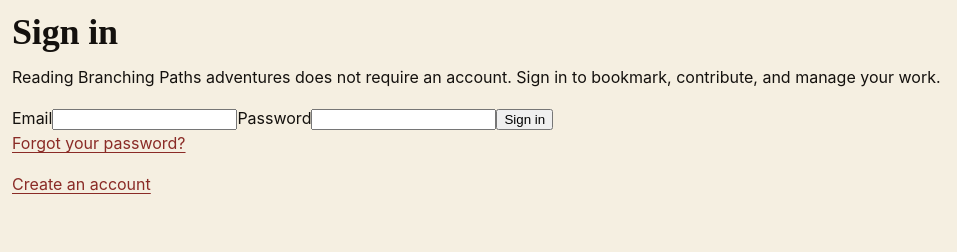
Login page › shows a pending-verification message and does not redirect
The image size is (957, 252).
Step 1. Type "a@b.c" into the field labelled "Email" → point(145, 120), box [52,109,237,130]
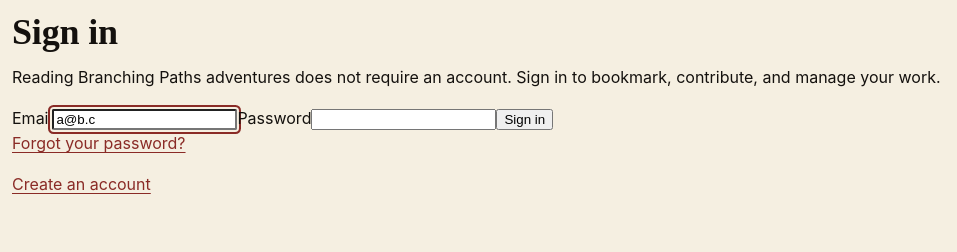
Step 2. Type "correct horse battery staple" into the password field labelled "Password" → point(404, 120), box [311,109,496,130]
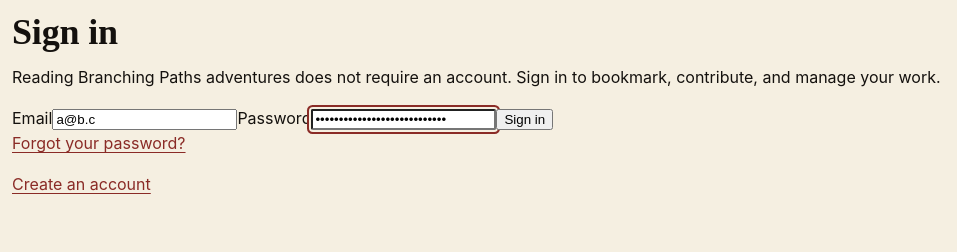
Step 3. Click the button "Sign in" → point(525, 120), box [496,109,553,130]
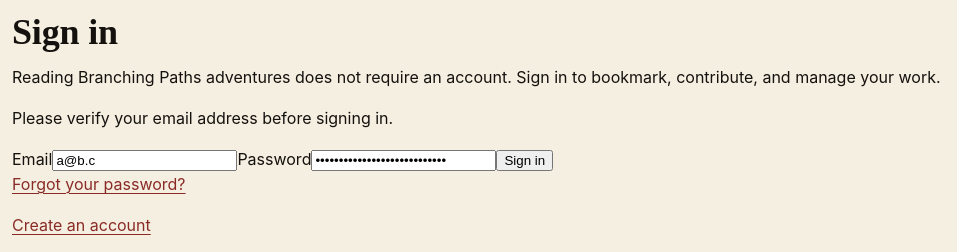
Check: the message shows "verify your email", box [12,108,393,128]
